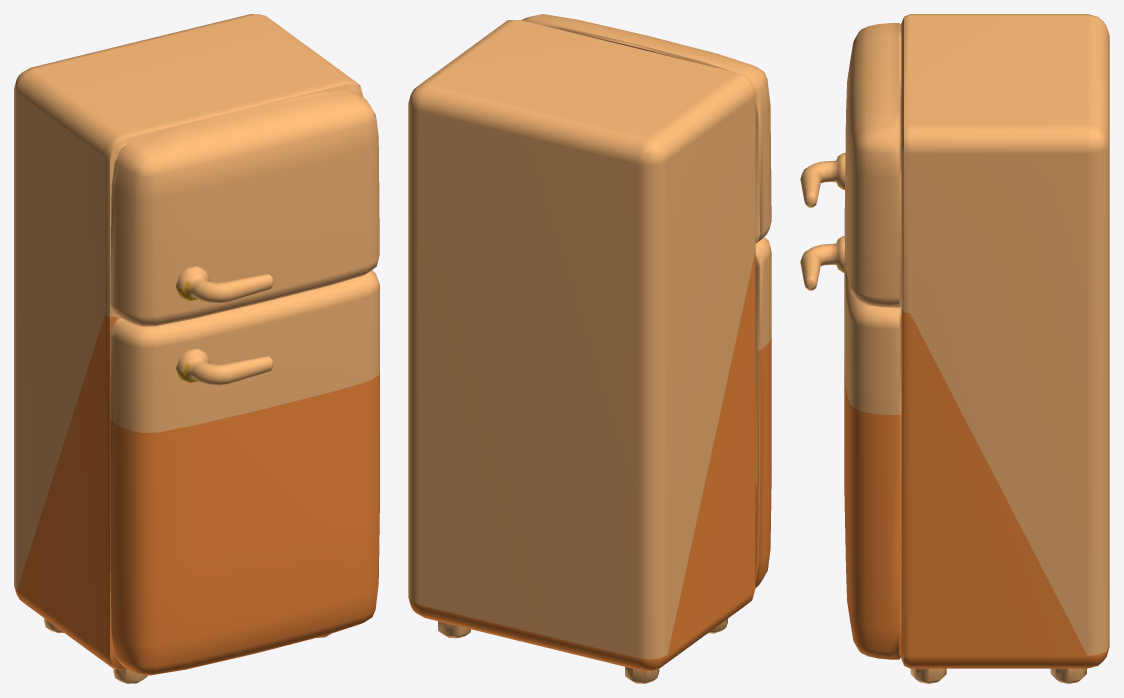
The model's file is geladeira_natal_retro_pacote.glb.
The picture shows the model from 3 angles, left to right: view 1: azimuth 30°, elevation 25°; view 2: azimuth 150°, elevation 25°; view 3: azimuth 270°, elevation 25°; orthographic projection.
Visible parts, largest first — view 1: porta_2, geladeira_natal_retro_pacote, porta_1; view 2: geladeira_natal_retro_pacote, porta_1, porta_2; view 3: geladeira_natal_retro_pacote, porta_2, porta_1.
Boxes of the visible parts, x1,y1,x2,y2 form: porta_2: [110, 270, 379, 675]; geladeira_natal_retro_pacote: [14, 14, 363, 683]; porta_1: [110, 89, 379, 326]; geladeira_natal_retro_pacote: [408, 20, 755, 683]; porta_1: [521, 14, 771, 243]; porta_2: [755, 237, 771, 587]; geladeira_natal_retro_pacote: [901, 14, 1109, 683]; porta_2: [800, 236, 901, 659]; porta_1: [800, 23, 901, 307].
Size of the model in its own units: 0.782 by 1.61 by 0.8032.
2 materials, 1 textured.
